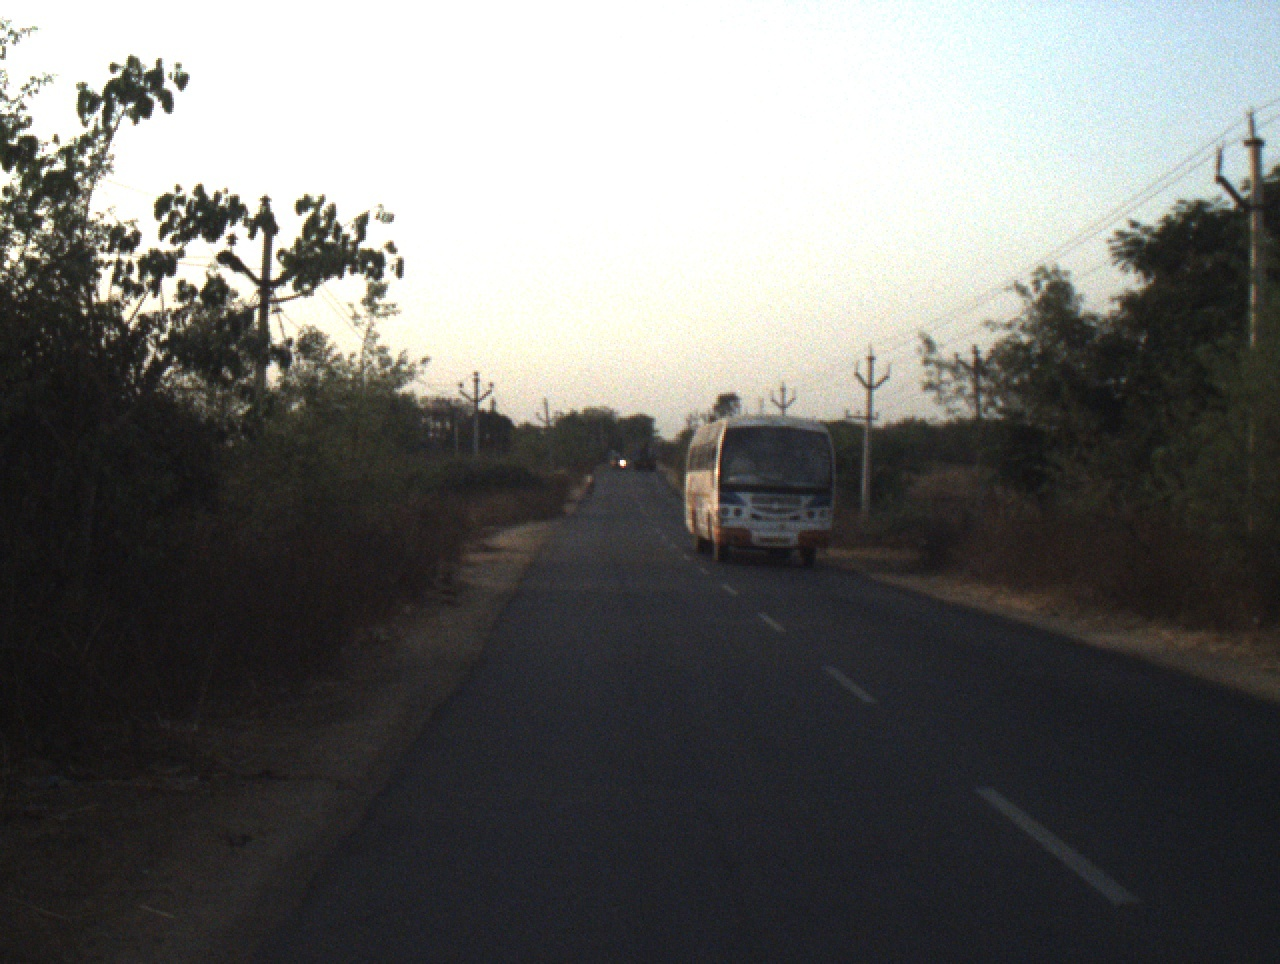autorickshaw: (606, 451, 628, 470)
bus: (676, 415, 841, 569)
vehicle fallback: (632, 440, 657, 473)
